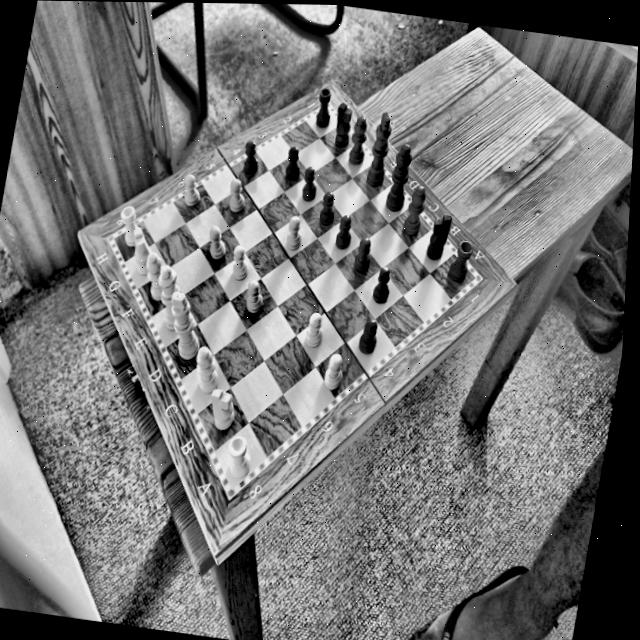black-bishop: (400, 179, 430, 241), (347, 114, 372, 171)
black-king: (363, 108, 397, 191)
black-knight: (423, 209, 455, 265), (330, 99, 356, 149)
black-pawn: (351, 315, 386, 359), (235, 137, 269, 181), (369, 262, 399, 308), (314, 188, 342, 232), (279, 141, 306, 185), (350, 233, 377, 277), (333, 212, 355, 255), (299, 164, 322, 205)
black-queen: (384, 140, 416, 214)
black-rook: (446, 234, 477, 286), (311, 86, 337, 130)
white-bishop: (135, 247, 176, 307), (187, 341, 226, 403)
white-king: (158, 285, 213, 366)
white-knight: (124, 221, 159, 283), (203, 381, 242, 435)
white-pawn: (298, 307, 333, 356), (175, 170, 208, 214), (319, 351, 351, 395), (201, 223, 233, 266), (240, 277, 271, 321), (281, 212, 309, 257), (227, 241, 256, 284), (221, 175, 252, 215)
white-queen: (147, 259, 192, 342)
white-rook: (219, 430, 260, 485), (109, 201, 148, 254)
